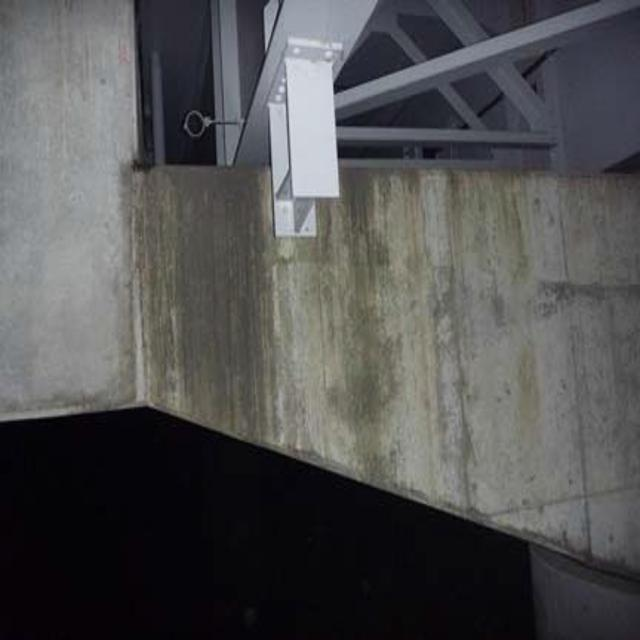leakage: (127, 167, 264, 440), (332, 166, 408, 493)
